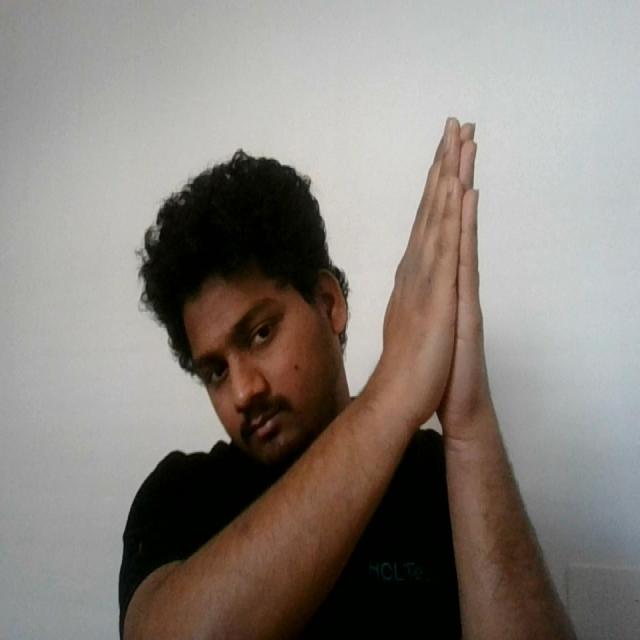Thanks: (366, 108, 502, 450)
